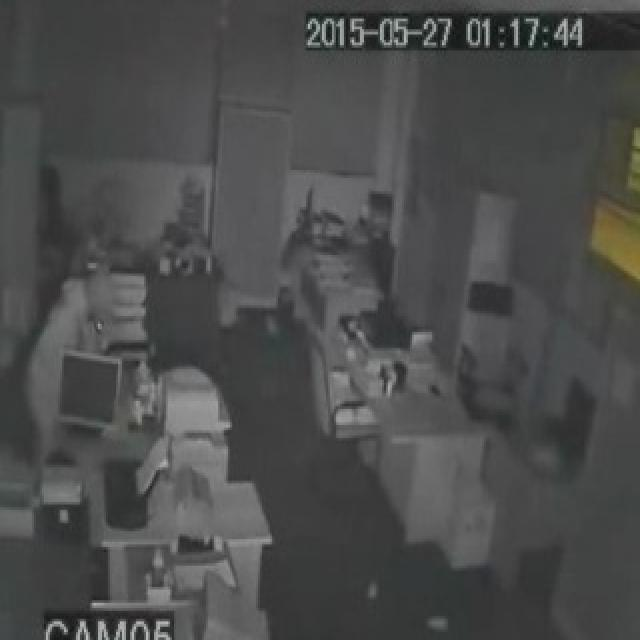thief: (44, 227, 130, 406)
